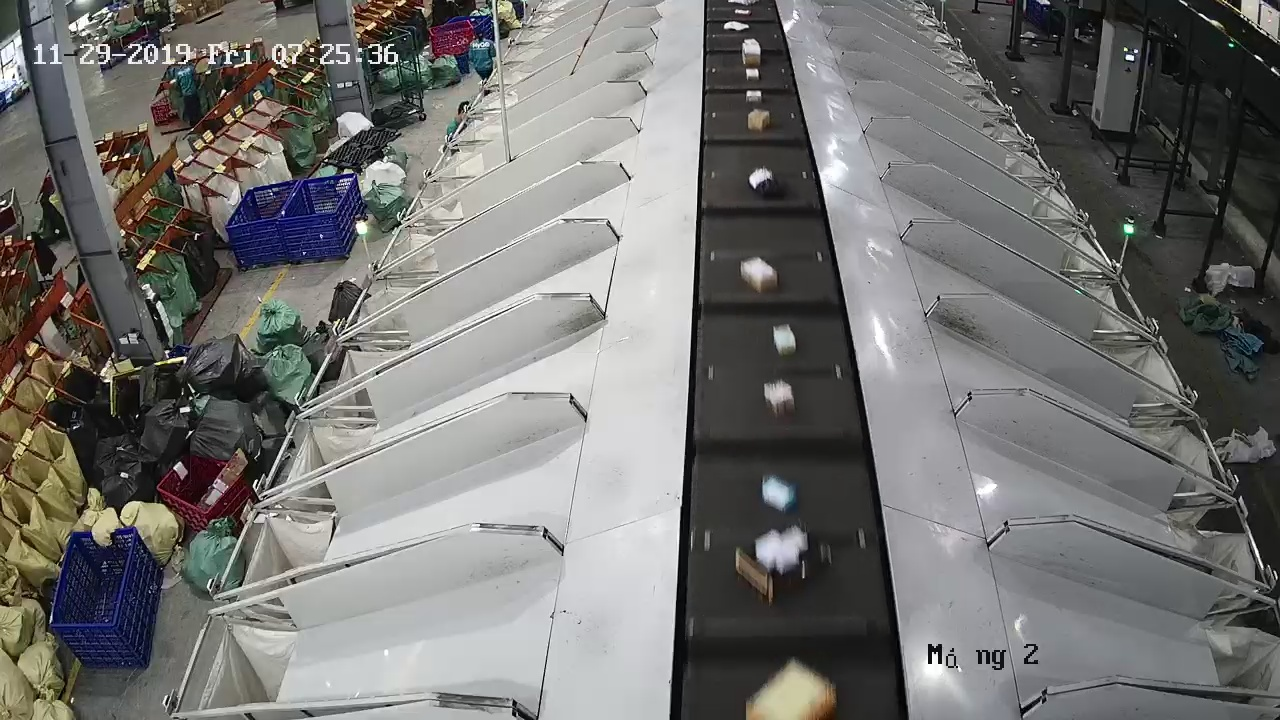parcel: (733, 522, 832, 609), (760, 474, 799, 514), (742, 258, 778, 294), (765, 380, 796, 419), (773, 323, 796, 357)
